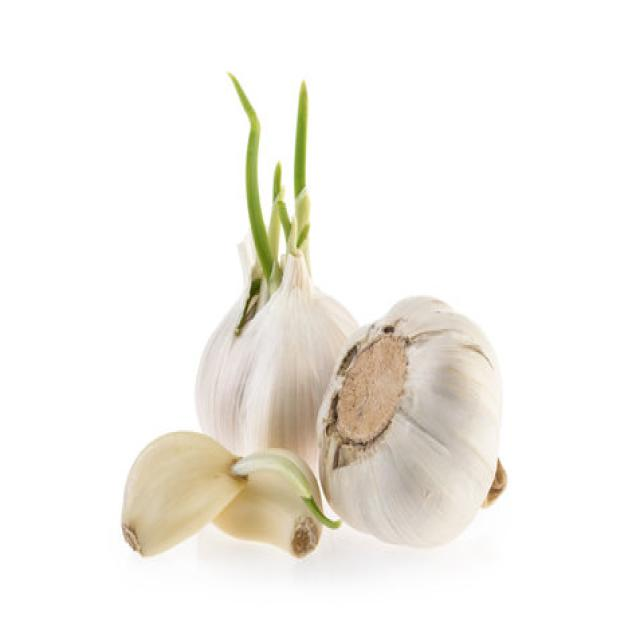garlic: (200, 267, 505, 560)
